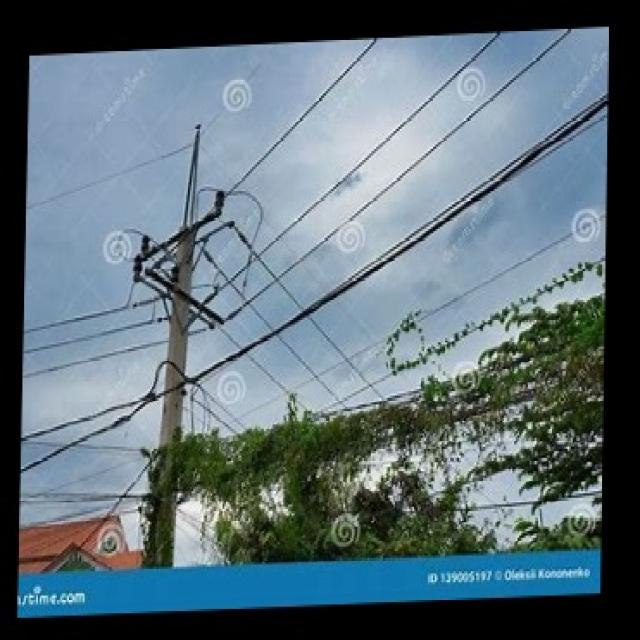critical vegetation: (152, 378, 604, 558)
